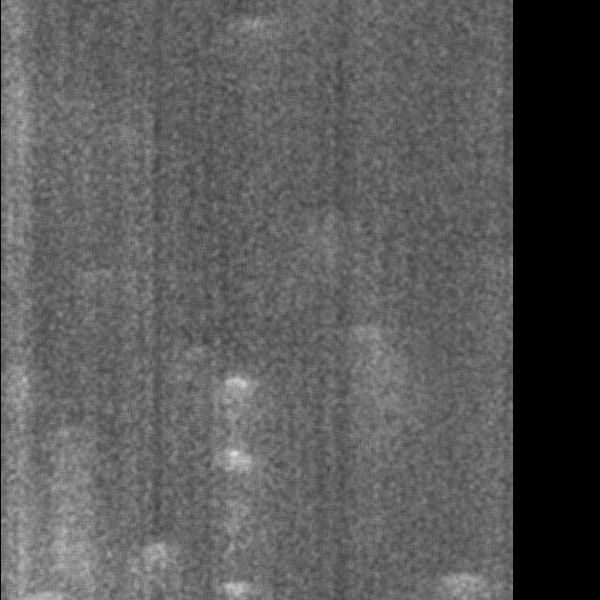spark: (286, 39, 306, 119), (393, 566, 418, 600)
